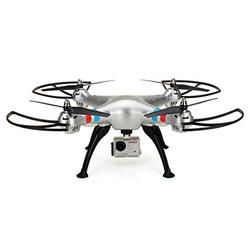drone: (5, 76, 246, 180)
